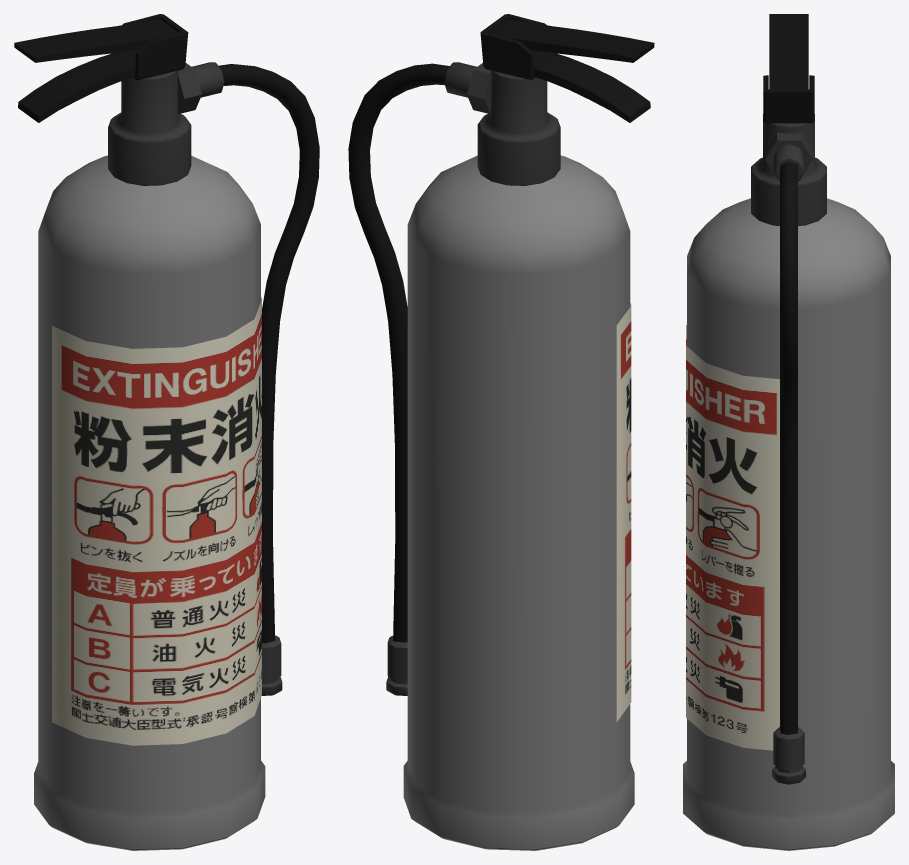
Rendered from SM_fireextinguisher.fbx.
3 views of the same model, side by side, from view 1: azimuth 30°, elevation 25°; view 2: azimuth 150°, elevation 25°; view 3: azimuth 270°, elevation 25° (orthographic). The views are drawn at different scales.
Parts seen in each view (by area): view 1: fireextinguisher; view 2: fireextinguisher; view 3: fireextinguisher.
Boxes of the visible parts, x1,y1,x2,y2 form: fireextinguisher: (14,14,319,850); fireextinguisher: (348,14,654,850); fireextinguisher: (683,14,894,850).
Size of the model in its own units: 13.65 by 34.8 by 9.09.
4 materials, 1 textured.
